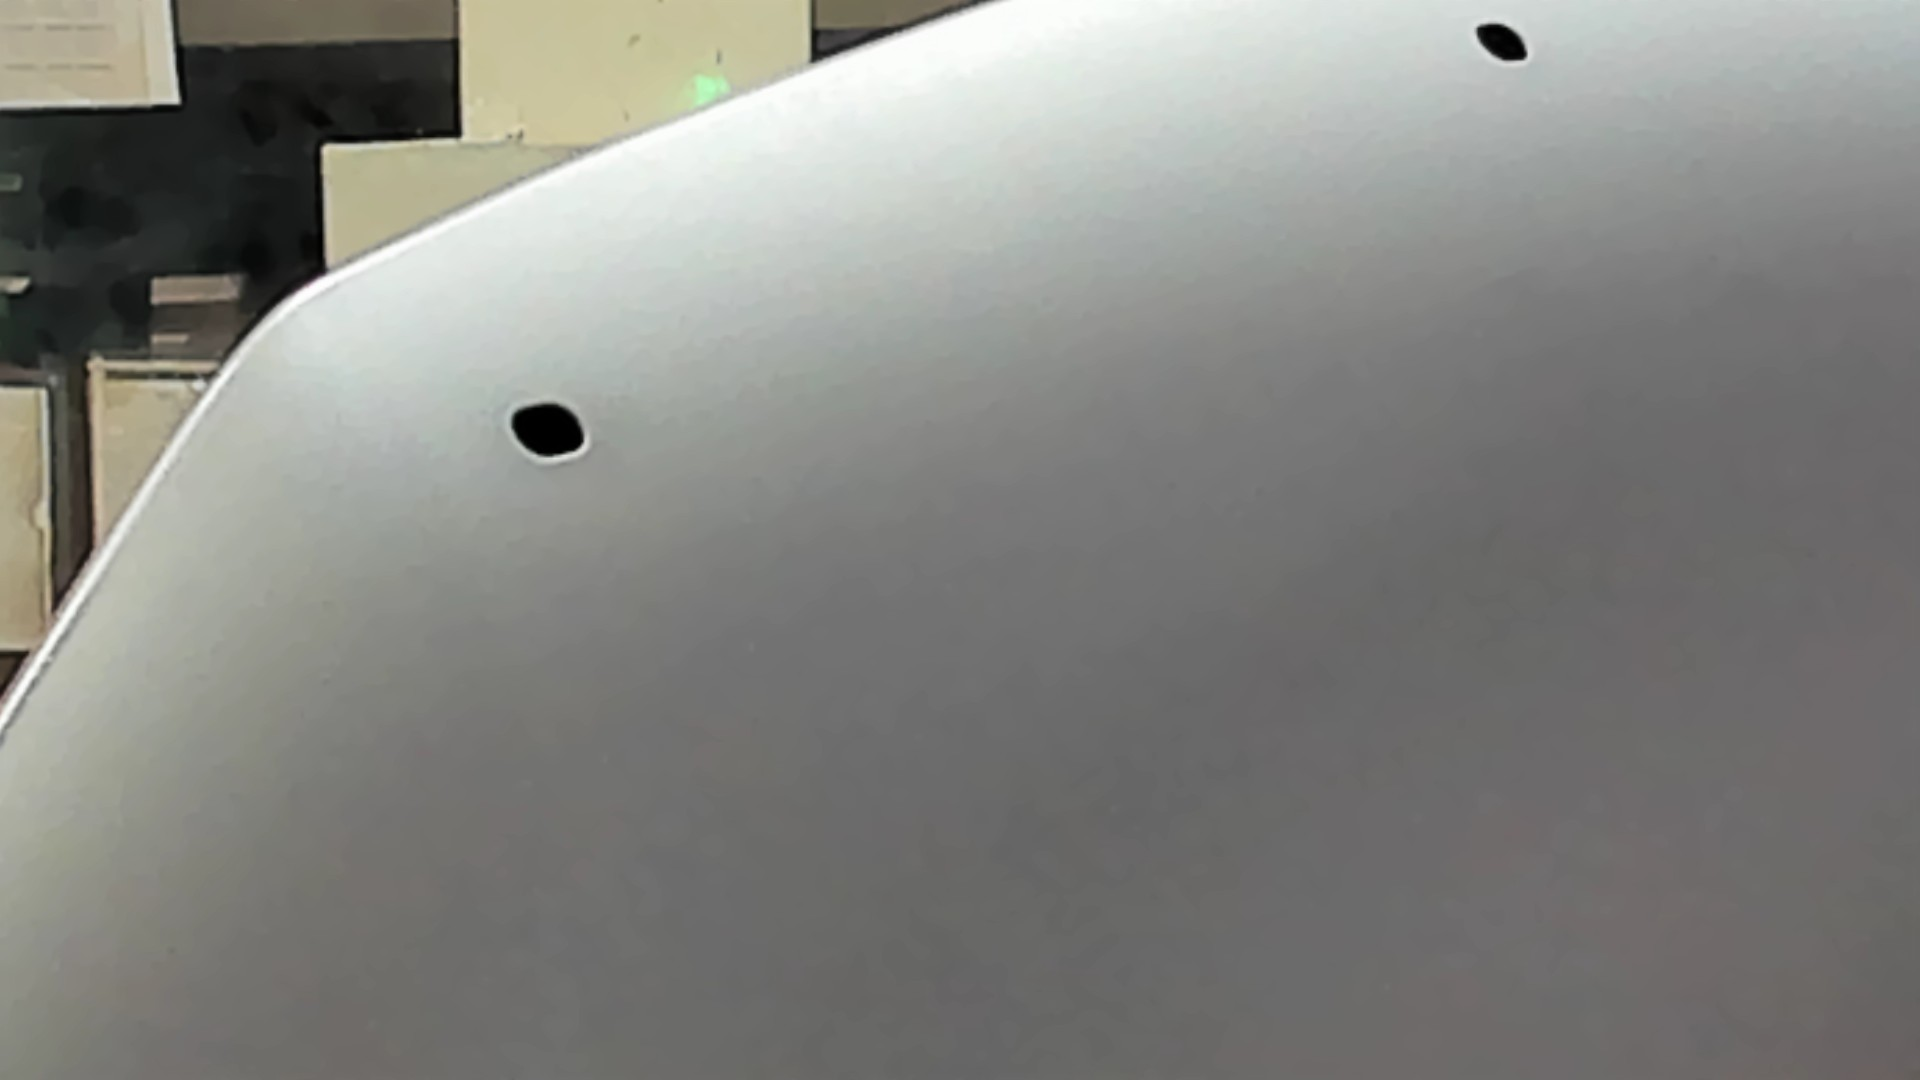chico: (498, 392, 605, 469), (1468, 13, 1542, 90)
